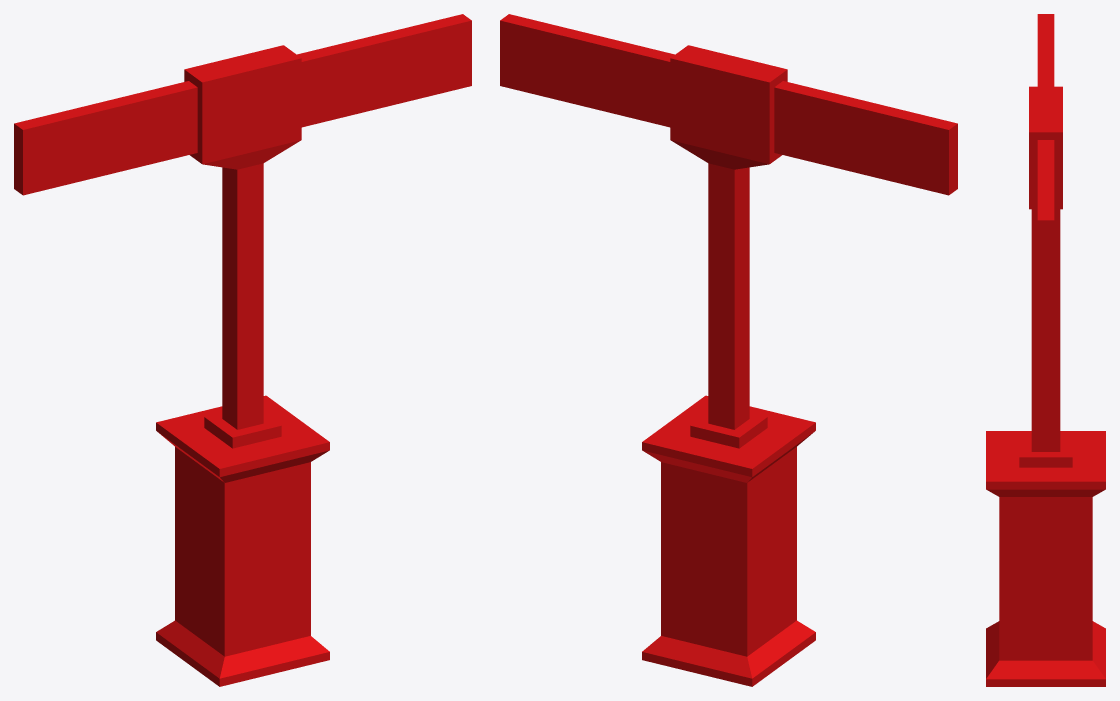
Rendered from sign.glb.
3 renders of one model, left to right at view 1: azimuth 30°, elevation 25°; view 2: azimuth 150°, elevation 25°; view 3: azimuth 270°, elevation 25°, orthographic. The views are drawn at different scales.
Parts seen in each view (by area): view 1: signs; view 2: signs; view 3: signs.
Boxes of the visible parts, x1,y1,x2,y2 form: signs: [14, 14, 471, 686]; signs: [500, 14, 957, 686]; signs: [986, 14, 1105, 686].
Size of the model in its own units: 8.14 by 10.16 by 2.
